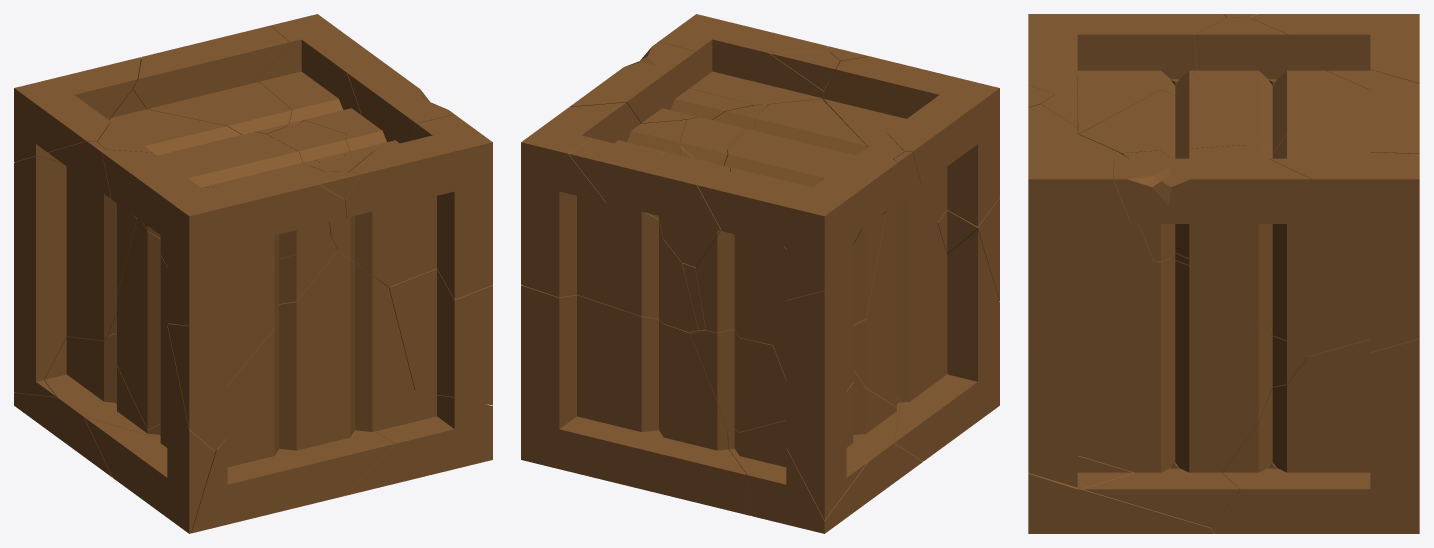
The model's file is boxEx.fbx.
3 renders of one model, left to right at view 1: azimuth 30°, elevation 25°; view 2: azimuth 150°, elevation 25°; view 3: azimuth 270°, elevation 25°, orthographic. The views are drawn at different scales.
Parts seen in each view (by area): view 1: Cube_cell.014, Cube_cell.009, Cube_cell.006, Cube_cell.015, Cube_cell.017, Cube_cell.004, Cube_cell.001, Cube_cell.005, Cube_cell.007, Cube_cell.011, Cube_cell, Cube_cell.002 (+6 smaller); view 2: Cube_cell.013, Cube_cell.017, Cube_cell.008, Cube_cell.009, Cube_cell.007, Cube_cell.015, Cube_cell.002, Cube_cell.011, Cube_cell.001, Cube_cell.006, Cube_cell.003, Cube_cell.012 (+4 smaller); view 3: Cube_cell.005, Cube_cell.008, Cube_cell.013, Cube_cell.007, Cube_cell.006, Cube_cell.009, Cube_cell.012, Cube_cell.002, Cube_cell.001, Cube_cell, Cube_cell.018, Cube_cell.016.
Boxes of the visible parts, bbox=[...] form: Cube_cell.014: bbox=[191, 250, 414, 533]; Cube_cell.009: bbox=[102, 149, 346, 325]; Cube_cell.006: bbox=[329, 114, 492, 299]; Cube_cell.015: bbox=[14, 156, 136, 396]; Cube_cell.017: bbox=[84, 219, 215, 533]; Cube_cell.004: bbox=[167, 235, 337, 450]; Cube_cell.001: bbox=[129, 25, 301, 134]; Cube_cell.005: bbox=[363, 268, 492, 405]; Cube_cell.007: bbox=[97, 89, 319, 219]; Cube_cell.011: bbox=[14, 332, 160, 477]; Cube_cell: bbox=[345, 390, 492, 495]; Cube_cell.002: bbox=[14, 57, 141, 162]; Cube_cell.013: bbox=[521, 285, 751, 515]; Cube_cell.017: bbox=[853, 207, 999, 461]; Cube_cell.008: bbox=[521, 102, 698, 332]; Cube_cell.009: bbox=[823, 56, 999, 226]; Cube_cell.007: bbox=[695, 99, 904, 344]; Cube_cell.015: bbox=[773, 213, 885, 520]; Cube_cell.002: bbox=[697, 159, 896, 299]; Cube_cell.011: bbox=[727, 369, 922, 533]; Cube_cell.001: bbox=[569, 138, 744, 266]; Cube_cell.006: bbox=[658, 14, 837, 105]; Cube_cell.003: bbox=[688, 329, 786, 432]; Cube_cell.012: bbox=[570, 42, 753, 123]; Cube_cell.005: bbox=[1028, 258, 1306, 527]; Cube_cell.008: bbox=[1173, 152, 1419, 356]; Cube_cell.013: bbox=[1212, 338, 1419, 533]; Cube_cell.007: bbox=[1079, 17, 1370, 158]; Cube_cell.006: bbox=[1028, 104, 1153, 338]; Cube_cell.009: bbox=[1028, 14, 1226, 134]; Cube_cell.012: bbox=[1113, 158, 1310, 261]; Cube_cell.002: bbox=[1251, 14, 1419, 89]; Cube_cell.001: bbox=[1247, 69, 1419, 158]; Cube_cell: bbox=[1028, 455, 1213, 533]; Cube_cell.018: bbox=[1121, 145, 1253, 158]; Cube_cell.016: bbox=[1041, 91, 1077, 127].
Bounding box in the file's own units: 120 × 120 × 120.
